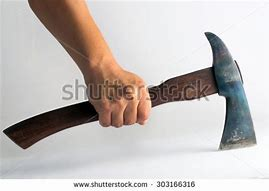axe: (2, 30, 260, 153)
